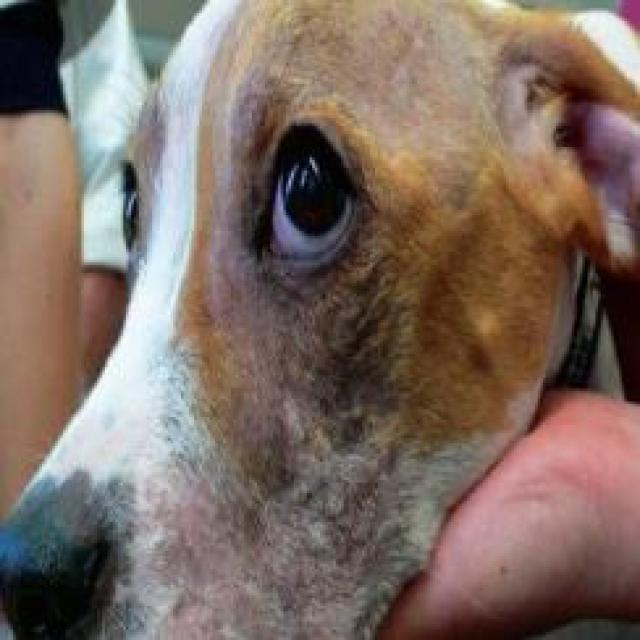allergic dermatitis: (127, 481, 343, 640)
